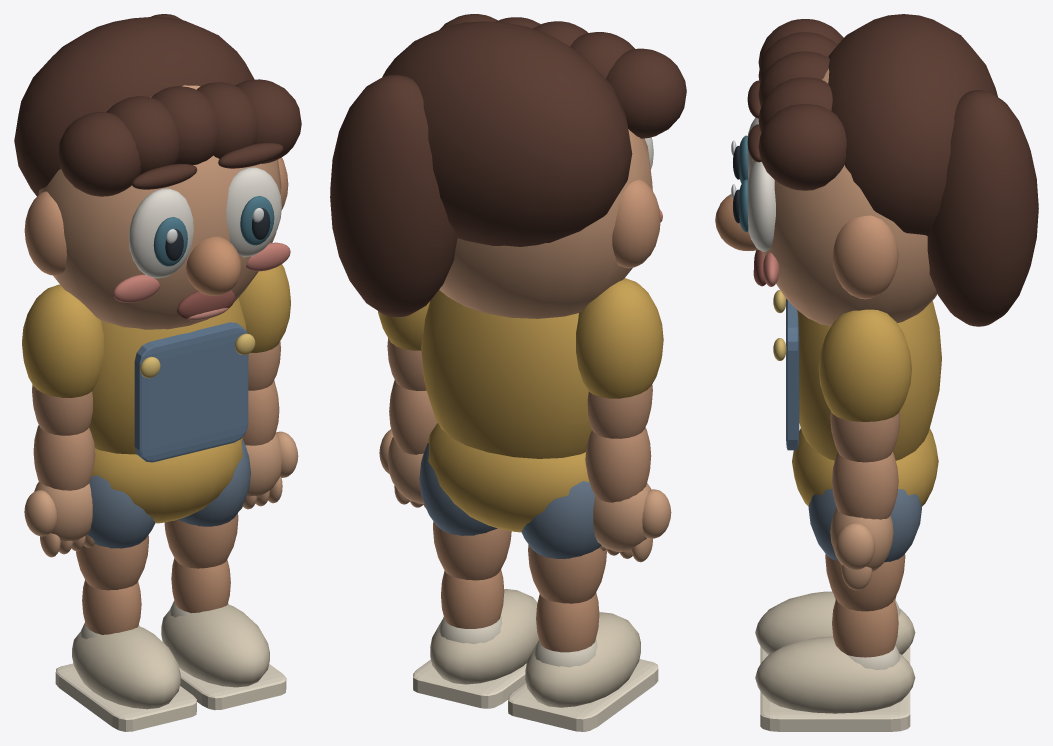
Rendered from arianna.glb.
3 views of the same model, side by side, from view 1: azimuth 30°, elevation 25°; view 2: azimuth 150°, elevation 25°; view 3: azimuth 270°, elevation 25° (orthographic). The views are drawn at different scales.
Visible parts, largest first — view 1: arianna_head_mesh, arianna_torso_mesh, arianna_shinL_mesh, arianna_shinR_mesh, arianna_armL_mesh, arianna_foreL_mesh, arianna_legL_mesh, arianna_legR_mesh, arianna_foreR_mesh, arianna_armR_mesh; view 2: arianna_head_mesh, arianna_torso_mesh, arianna_shinL_mesh, arianna_shinR_mesh, arianna_armL_mesh, arianna_foreL_mesh, arianna_legL_mesh, arianna_legR_mesh, arianna_foreR_mesh, arianna_armR_mesh; view 3: arianna_head_mesh, arianna_shinR_mesh, arianna_torso_mesh, arianna_armR_mesh, arianna_foreR_mesh, arianna_legR_mesh, arianna_shinL_mesh.
Boxes of the visible parts, <box> form: arianna_head_mesh: <box>14,14,301,329</box>; arianna_torso_mesh: <box>89,298,255,523</box>; arianna_shinL_mesh: <box>55,580,196,731</box>; arianna_shinR_mesh: <box>161,558,286,710</box>; arianna_armL_mesh: <box>22,284,104,435</box>; arianna_foreL_mesh: <box>24,425,95,557</box>; arianna_legL_mesh: <box>76,475,154,590</box>; arianna_legR_mesh: <box>164,439,250,568</box>; arianna_foreR_mesh: <box>239,380,298,510</box>; arianna_armR_mesh: <box>238,264,290,390</box>; arianna_head_mesh: <box>330,14,686,318</box>; arianna_torso_mesh: <box>421,289,591,532</box>; arianna_shinL_mesh: <box>508,592,658,731</box>; arianna_shinR_mesh: <box>413,569,538,708</box>; arianna_armL_mesh: <box>576,278,663,438</box>; arianna_foreL_mesh: <box>585,427,671,562</box>; arianna_legL_mesh: <box>521,481,606,603</box>; arianna_legR_mesh: <box>419,443,511,580</box>; arianna_foreR_mesh: <box>379,380,437,508</box>; arianna_armR_mesh: <box>378,301,429,390</box>; arianna_head_mesh: <box>715,14,1038,326</box>; arianna_shinR_mesh: <box>755,599,915,731</box>; arianna_torso_mesh: <box>773,290,941,506</box>; arianna_armR_mesh: <box>818,309,911,462</box>; arianna_foreR_mesh: <box>830,451,898,590</box>; arianna_legR_mesh: <box>808,489,921,611</box>; arianna_shinL_mesh: <box>755,591,915,664</box>.
Size of the model in its own units: 0.6895 by 1.57 by 0.6966.
